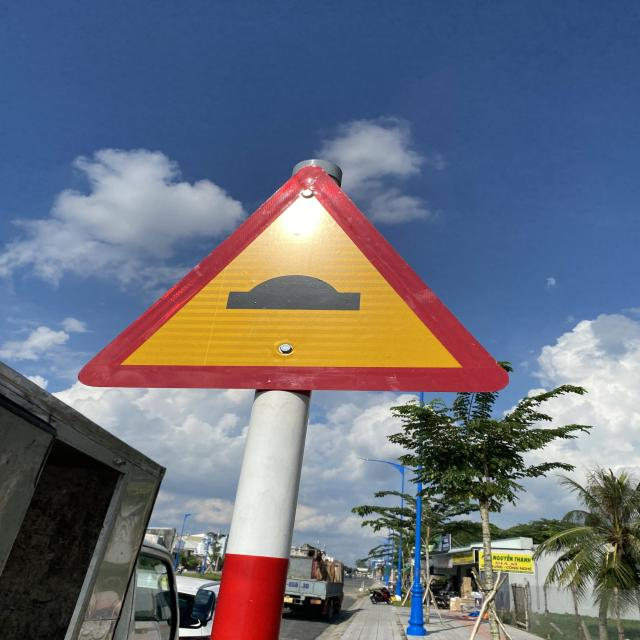Duong_Cong_Ben_Phai: (75, 163, 509, 393)
